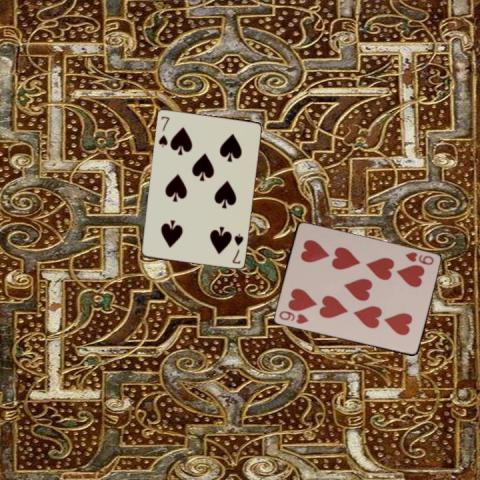7s: (155, 113, 171, 148), (229, 230, 245, 265)
9h: (401, 249, 435, 267), (276, 308, 310, 325)
